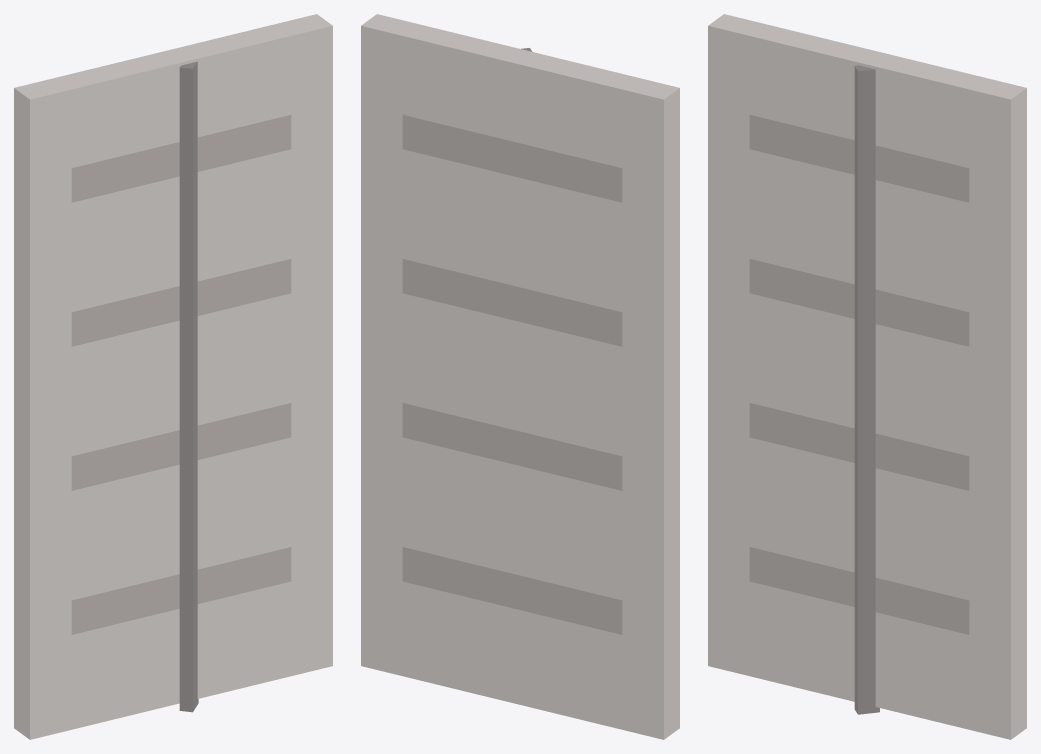
The model's file is cargo-shipping-door_R_white.glb.
The picture shows the model from 3 angles, left to right: view 1: azimuth 30°, elevation 25°; view 2: azimuth 150°, elevation 25°; view 3: azimuth 330°, elevation 25°; orthographic projection.
Visible parts, largest first — view 1: cargo-shipping-door_R_white; view 2: cargo-shipping-door_R_white; view 3: cargo-shipping-door_R_white.
Part boxes in pixels (x1,y1,x2,y2): cargo-shipping-door_R_white: (14, 14, 332, 739); cargo-shipping-door_R_white: (361, 14, 679, 739); cargo-shipping-door_R_white: (708, 14, 1026, 739).
Bounding box in the file's own units: 1.09 × 2.22 × 0.1398.
Materials: 1 (1 with a texture image).
